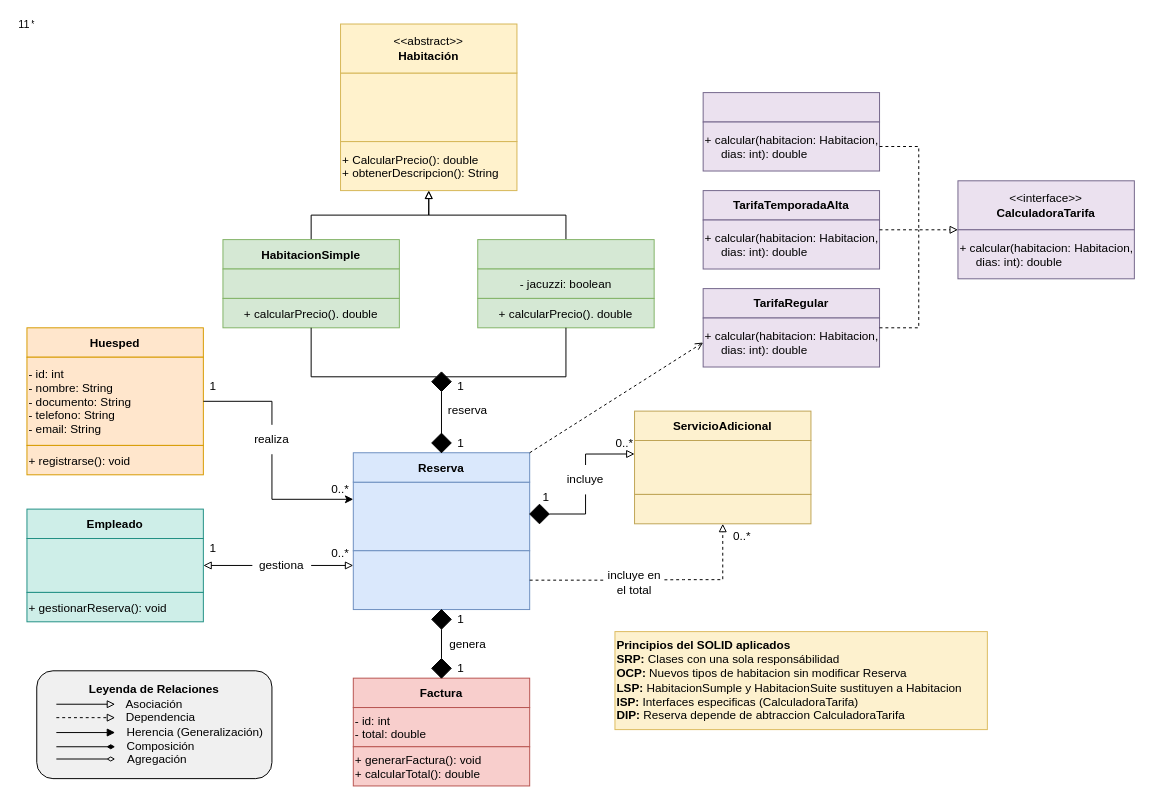
The diagram is 1152 pixels wide and 804 high, and some of its shapes have lost their labels. Here are the shapes that lost their labels. From the top down, the centre of each, then its label:
(x=428, y=107): - numero:int - precioBase:double - capacidad:int - estado: String
(x=791, y=107): TarifaDescuento
(x=565, y=254): HabitacionSuite
(x=722, y=467): - id: int - nombre: String - precio: double
(x=441, y=516): - id: int - fechaInicio: Date - fechaFin: Date - estado: String
(x=722, y=508): + aplicarServicio(): void
(x=114, y=565): - id: int - nombre: String - cargo: String
(x=441, y=580): + calcularTotal(): double + confirmar(): void + cancelar(). void
